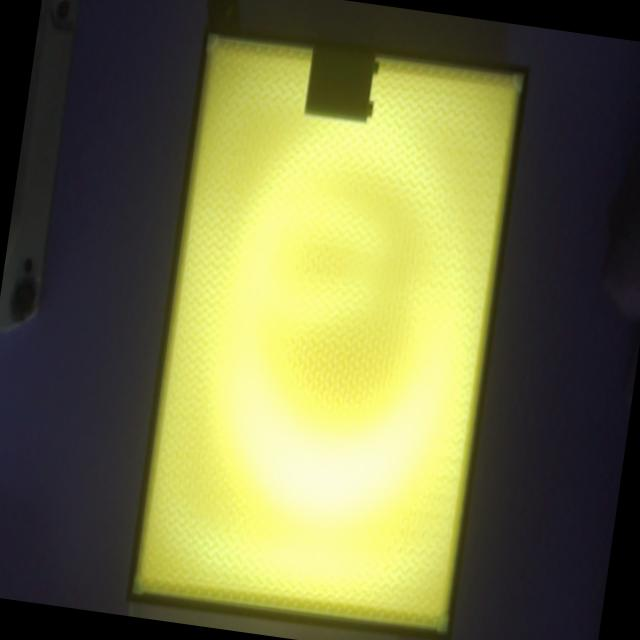bateria: (304, 47, 379, 124)
mesa: (125, 22, 530, 640)
